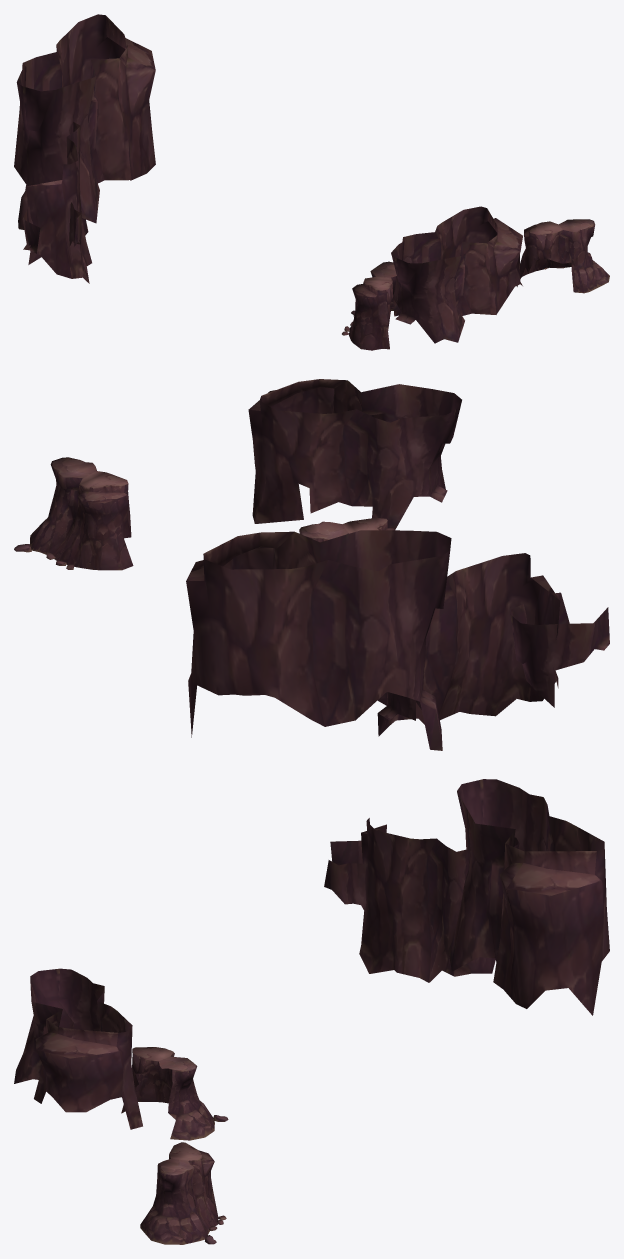
Rendered from area7_shiqiang_03.FBX.
3 views of the same model, one above another, from view 1: azimuth 30°, elevation 25°; view 2: azimuth 150°, elevation 25°; view 3: azimuth 270°, elevation 25° (orthographic). The views are drawn at different scales.
Parts seen in each view (by area): view 1: area7_shiqiang_03; view 2: area7_shiqiang_03; view 3: area7_shiqiang_03.
Boxes of the visible parts, x1=… form: area7_shiqiang_03: x1=14, y1=14, x2=609, y2=350; area7_shiqiang_03: x1=14, y1=379, x2=609, y2=750; area7_shiqiang_03: x1=14, y1=779, x2=609, y2=1244.
Size of the model in its own units: 8784 by 3315 by 8033.
